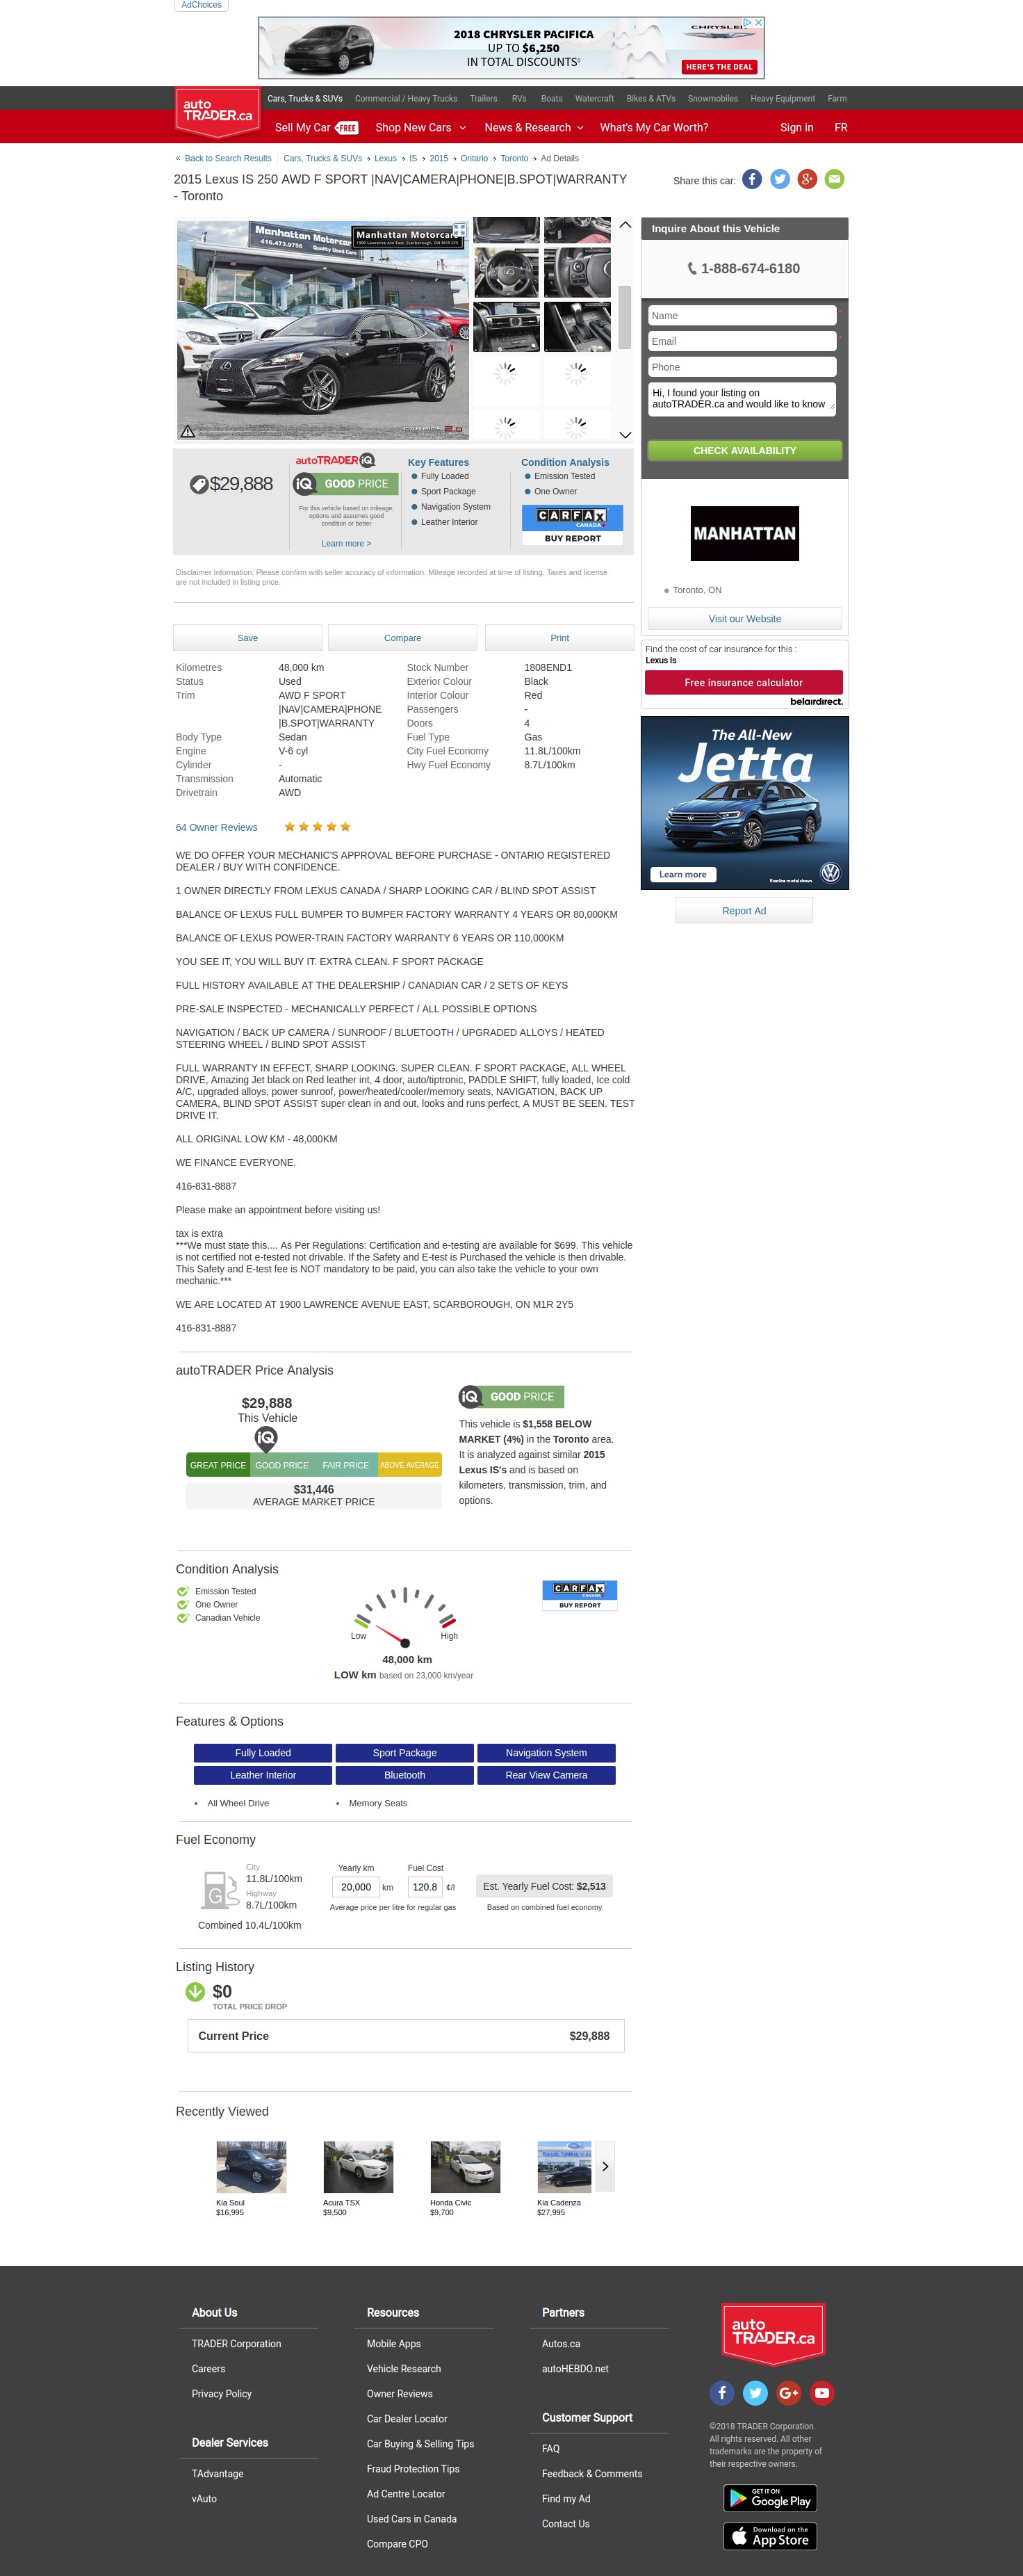car: (619, 430, 634, 440)
